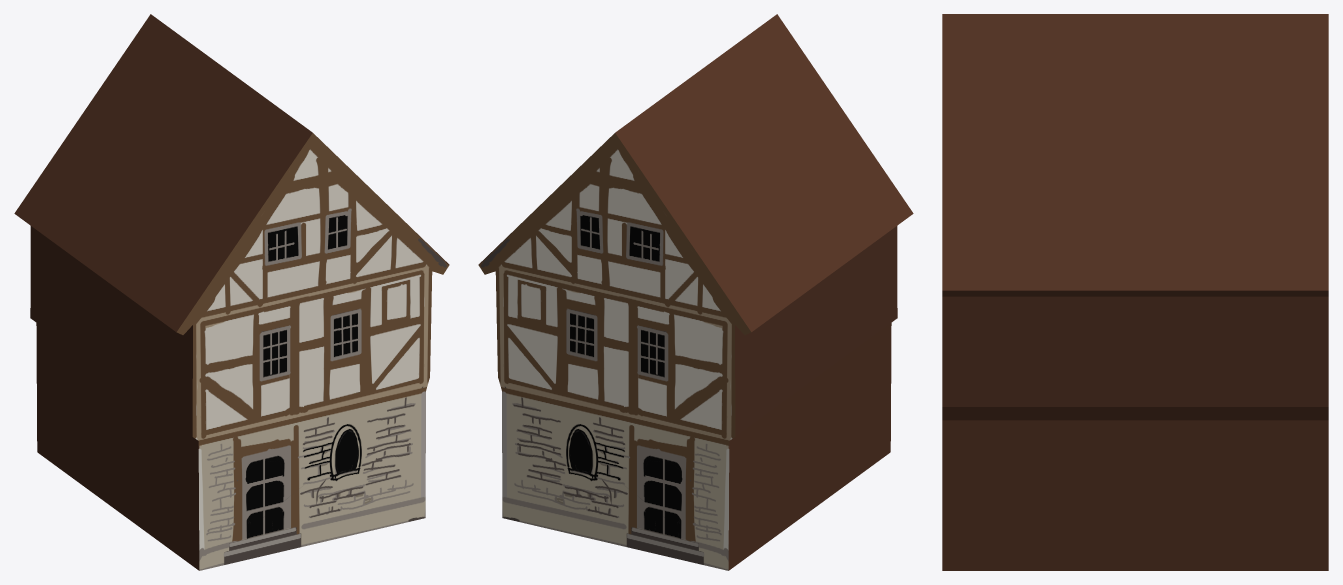
File: House_1.fbx
3 views of the same model, side by side, from view 1: azimuth 30°, elevation 25°; view 2: azimuth 150°, elevation 25°; view 3: azimuth 270°, elevation 25° (orthographic). The views are drawn at different scales.
Visible parts, largest first — view 1: House 1; view 2: House 1; view 3: House 1.
Part boxes in pixels (box(x1,y1,x2,y2)): House 1: box(14, 14, 449, 570); House 1: box(478, 14, 913, 570); House 1: box(942, 14, 1328, 570).
Size of the model in its own units: 69.34 by 100 by 71.29.
Materials: 2 (1 with a texture image).
